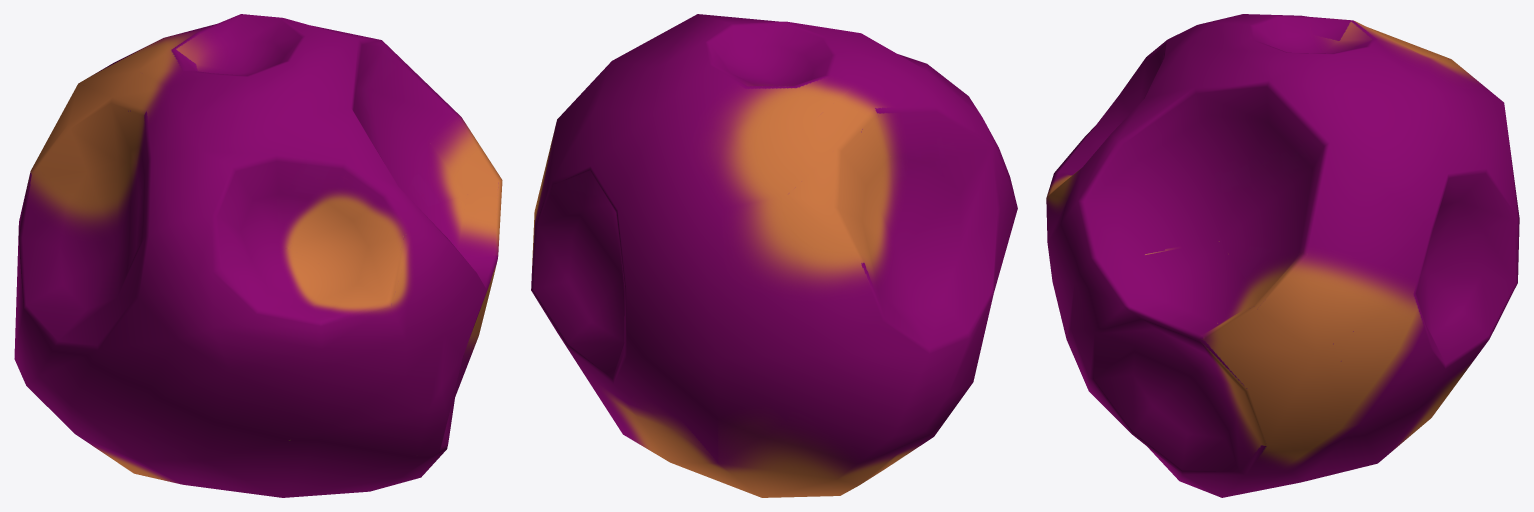
File: asteroid_large_1.obj
The picture shows the model from 3 angles, left to right: view 1: azimuth 30°, elevation 25°; view 2: azimuth 150°, elevation 25°; view 3: azimuth 270°, elevation 25°; orthographic projection. The views are drawn at different scales.
Parts seen in each view (by area): view 1: Asteroid_L_2_Icosphere.004; view 2: Asteroid_L_2_Icosphere.004; view 3: Asteroid_L_2_Icosphere.004.
Part boxes in pixels (x1,y1,x2,y2): Asteroid_L_2_Icosphere.004: (14,14,502,497); Asteroid_L_2_Icosphere.004: (531,14,1017,497); Asteroid_L_2_Icosphere.004: (1046,14,1519,497).
Size of the model in its own units: 10.06 by 9.35 by 9.97.
1 material, 1 textured.
